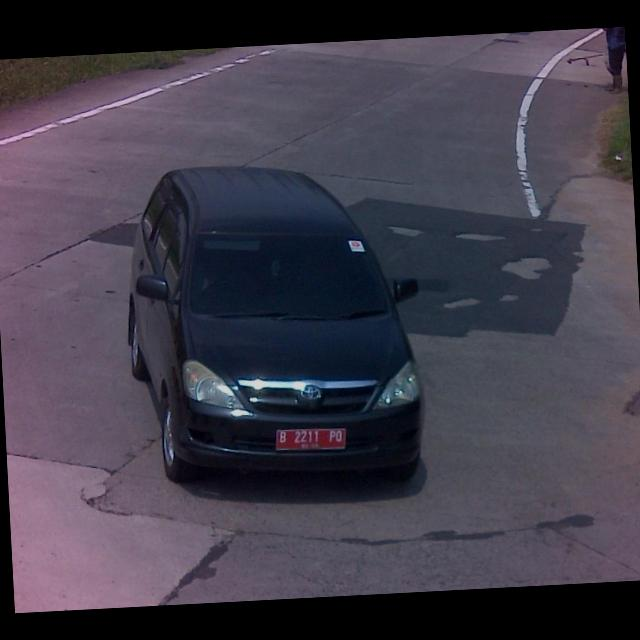plate: (270, 421, 348, 456)
